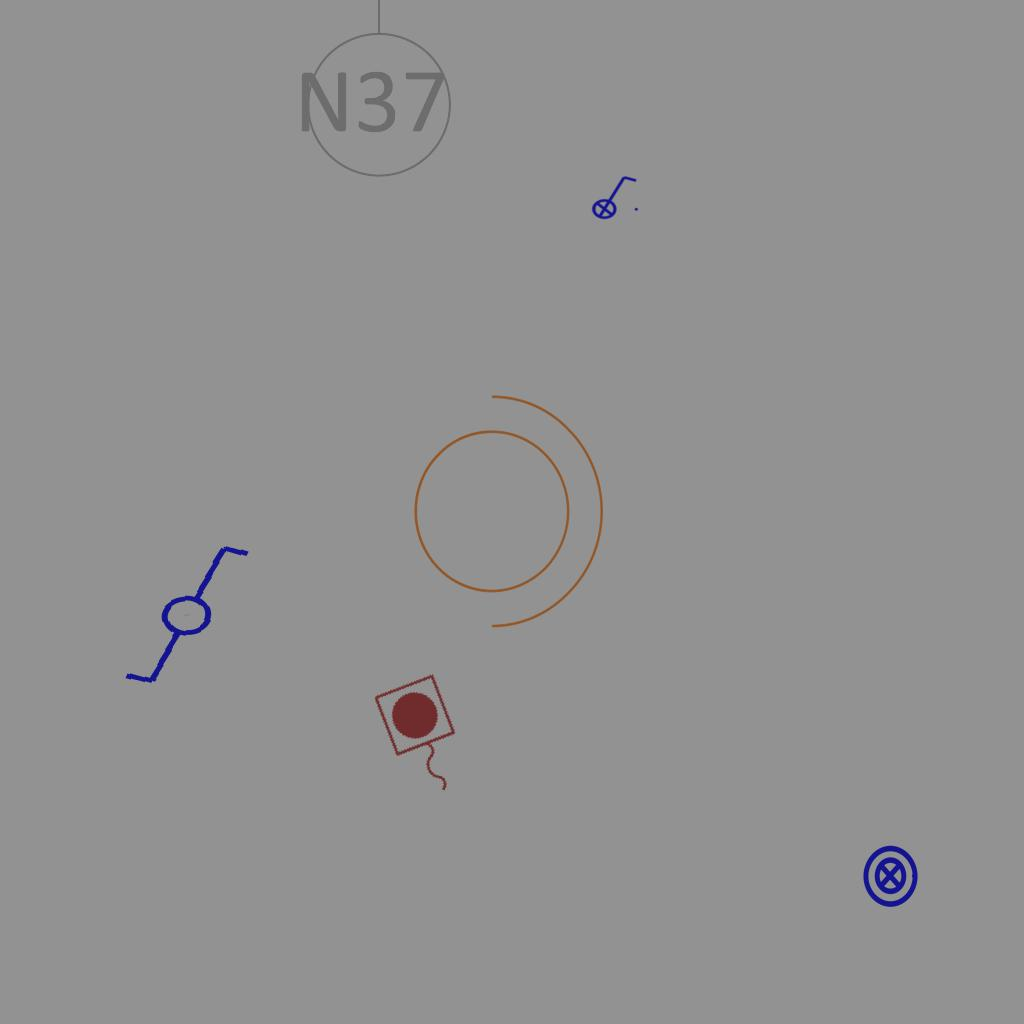Ausschalter_beleuchtet: (585, 172, 641, 220)
Scheinwerfer_fuer_Alarmbeleuchtung: (389, 373, 614, 637)
Taster_beleuchtet: (857, 843, 923, 909)
Wechselschalter: (95, 536, 262, 692)
Zugtaster: (367, 669, 479, 809)
